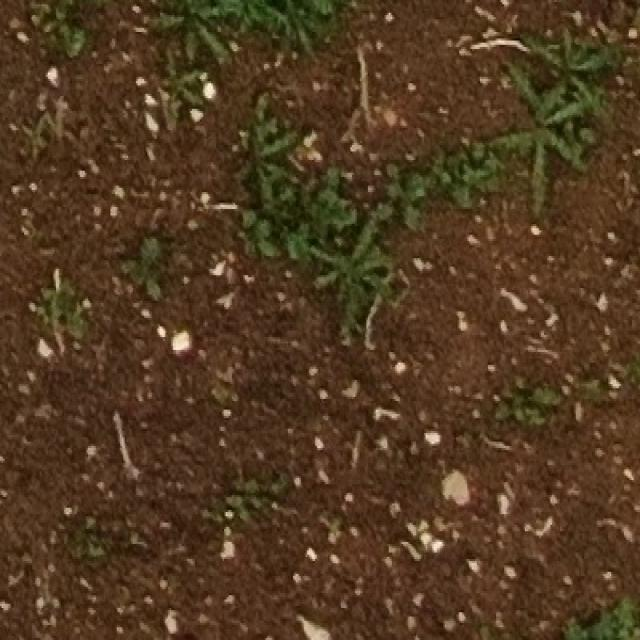cirse: (500, 61, 587, 218), (516, 58, 600, 219), (494, 67, 579, 226), (311, 207, 400, 329), (321, 219, 407, 345), (292, 204, 377, 328), (492, 28, 589, 135), (531, 20, 623, 130), (502, 30, 601, 131), (228, 92, 301, 213), (233, 91, 307, 202), (224, 88, 294, 204), (155, 0, 239, 66), (158, 0, 242, 63), (163, 0, 245, 63), (253, 1, 325, 58), (253, 0, 325, 57), (275, 3, 349, 57), (158, 62, 202, 113), (156, 59, 199, 111), (163, 60, 206, 111), (18, 118, 56, 163), (20, 116, 55, 159), (20, 123, 56, 164)
